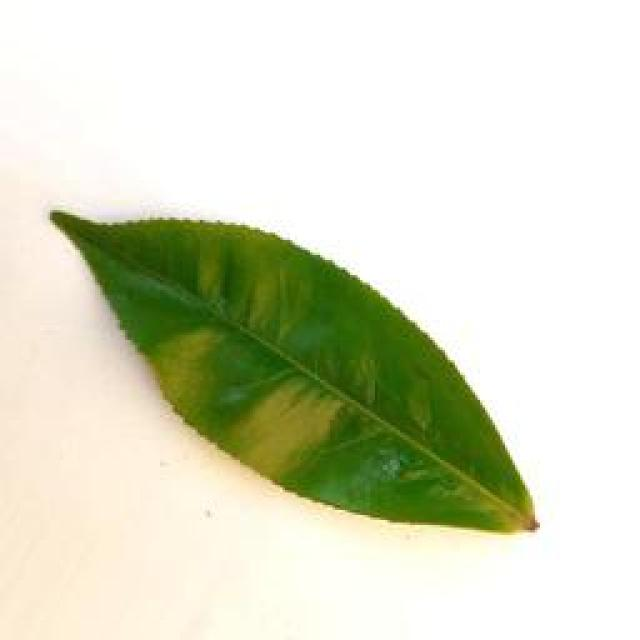Healthy: (41, 200, 545, 540)
